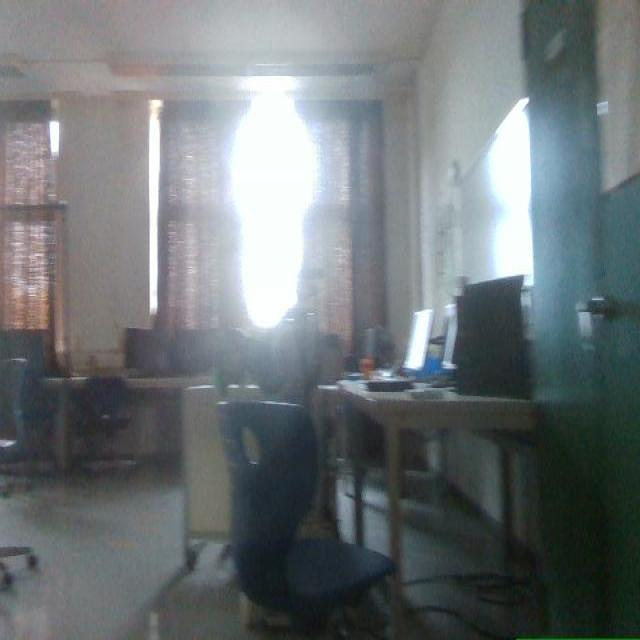objects: (218, 402, 393, 630), (456, 276, 529, 397), (0, 330, 59, 461), (73, 375, 133, 470), (365, 308, 433, 391), (367, 310, 433, 391), (125, 328, 219, 377), (412, 299, 456, 397), (0, 359, 31, 466), (0, 359, 30, 465), (0, 330, 55, 377), (169, 330, 223, 374), (213, 328, 247, 395), (124, 328, 169, 375), (402, 310, 433, 375), (316, 334, 344, 383), (363, 326, 394, 367), (441, 299, 457, 375)
